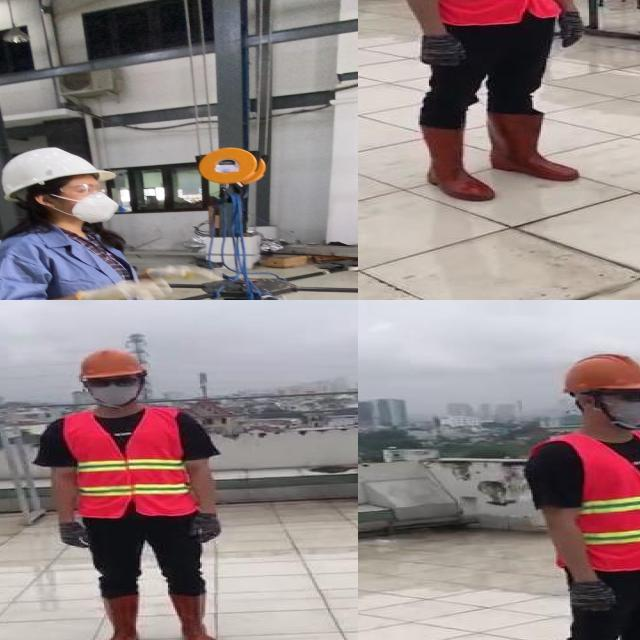boots: (405, 123, 497, 208), (486, 108, 584, 186), (166, 592, 224, 640), (98, 594, 146, 640)
face_mask: (53, 178, 122, 228), (84, 374, 140, 406), (600, 385, 640, 426)
glasses: (83, 373, 141, 390), (54, 182, 106, 197), (610, 386, 640, 405)
hand_glove: (80, 277, 174, 300), (137, 261, 219, 285), (414, 32, 465, 70), (563, 578, 620, 612), (550, 14, 598, 50), (190, 511, 222, 543), (54, 524, 90, 550)
head_helmet: (0, 145, 111, 194), (559, 351, 640, 394), (76, 348, 146, 379)
person: (35, 347, 227, 640), (377, 0, 578, 200), (0, 140, 205, 300), (527, 351, 640, 640)
vest: (527, 432, 640, 572), (63, 408, 193, 519)
